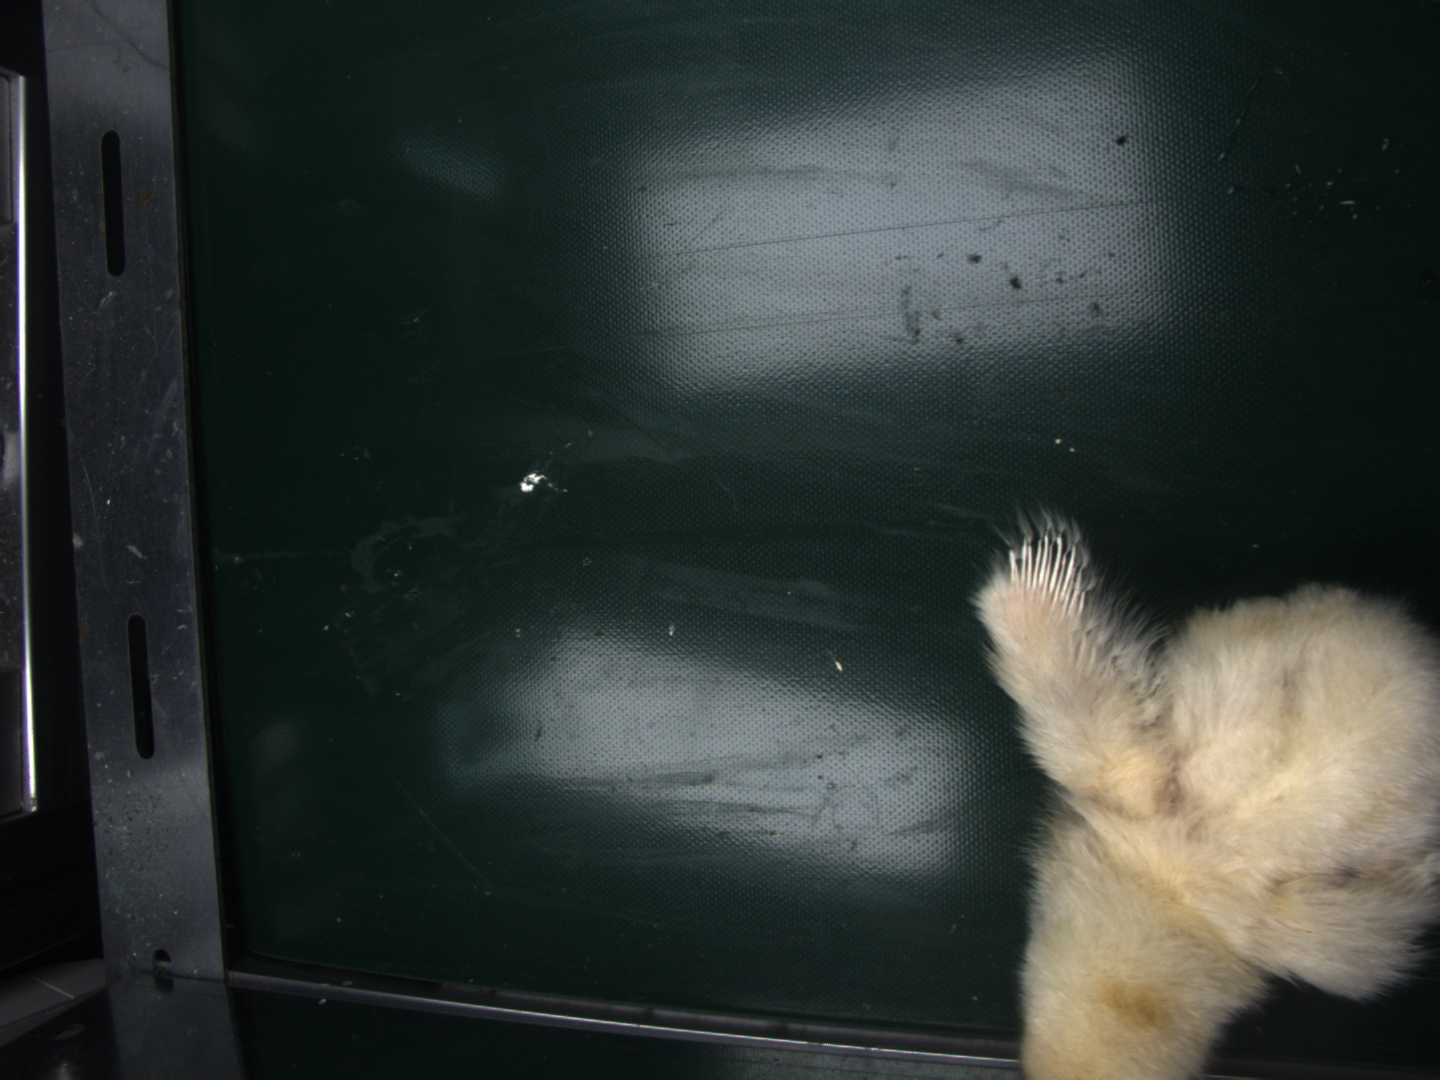male: (1011, 534, 1090, 611)
